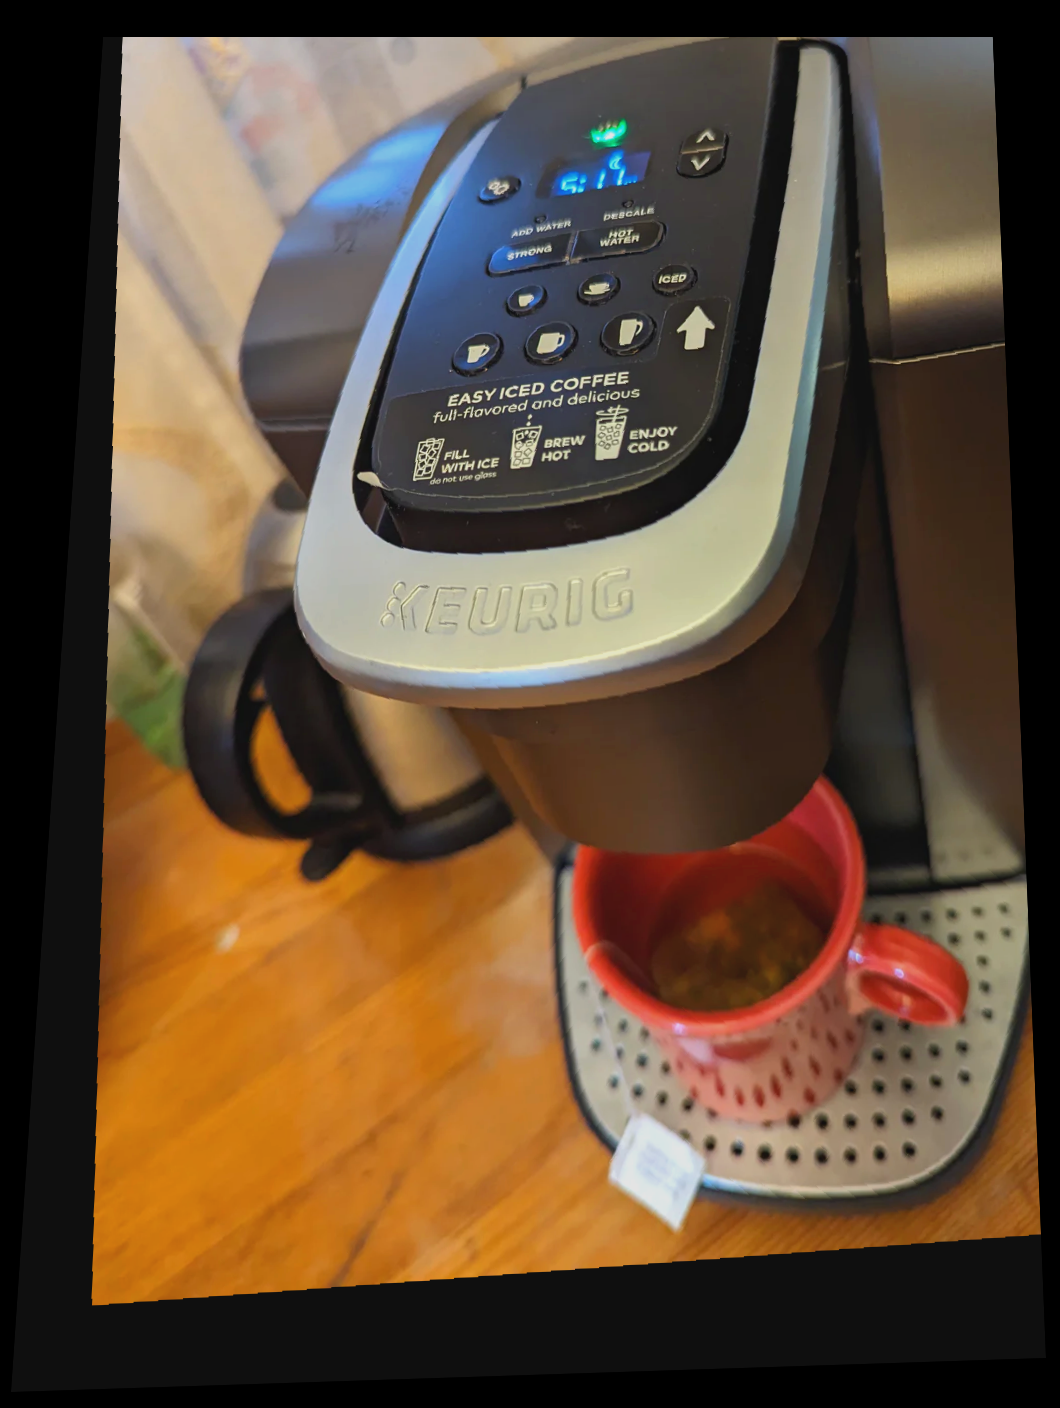10oz: (516, 314, 582, 369)
12oz: (593, 304, 659, 360)
4oz: (493, 276, 551, 321)
6oz: (569, 264, 628, 309)
8oz: (447, 328, 506, 373)
add_water: (503, 201, 575, 242)
coffee_handle: (326, 650, 658, 716)
descale: (589, 190, 661, 231)
hot: (573, 221, 662, 261)
iced: (644, 251, 704, 303)
power: (578, 108, 637, 146)
strong: (483, 233, 572, 278)
